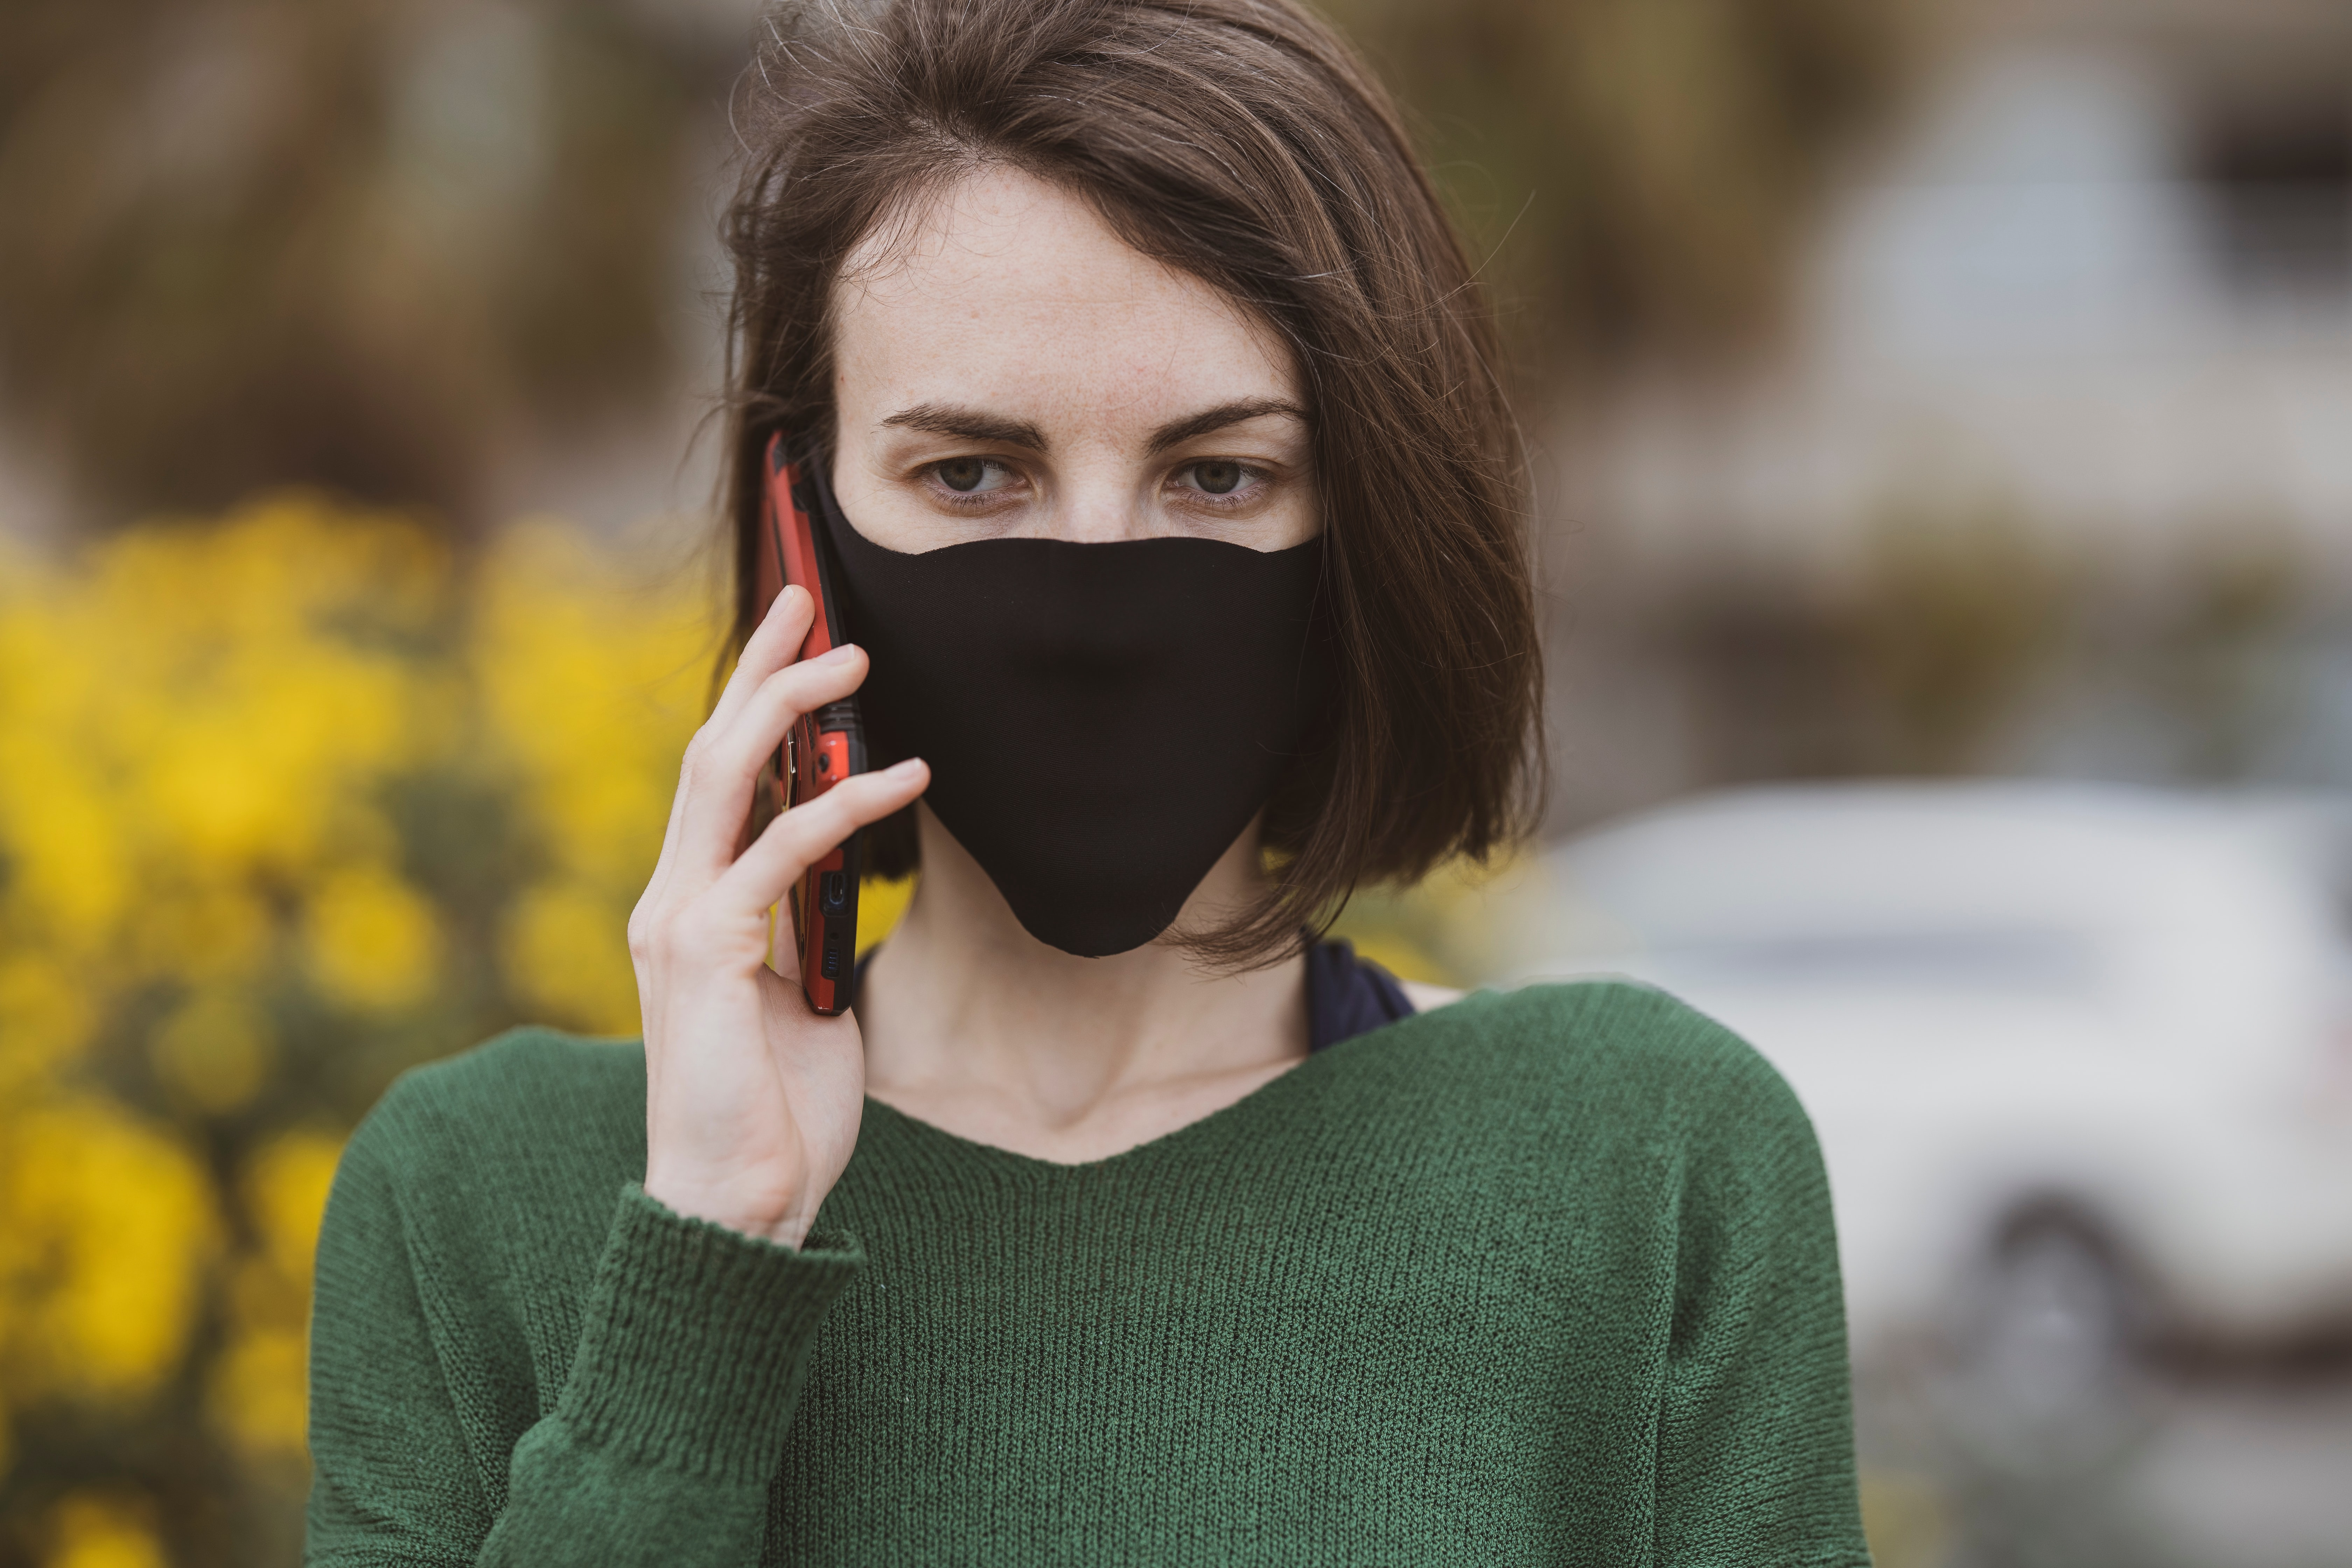mask: (826, 519, 1339, 954)
person: (304, 16, 1885, 1568)
